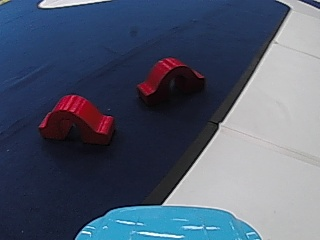bridge: (32, 91, 120, 145), (132, 54, 206, 106)
